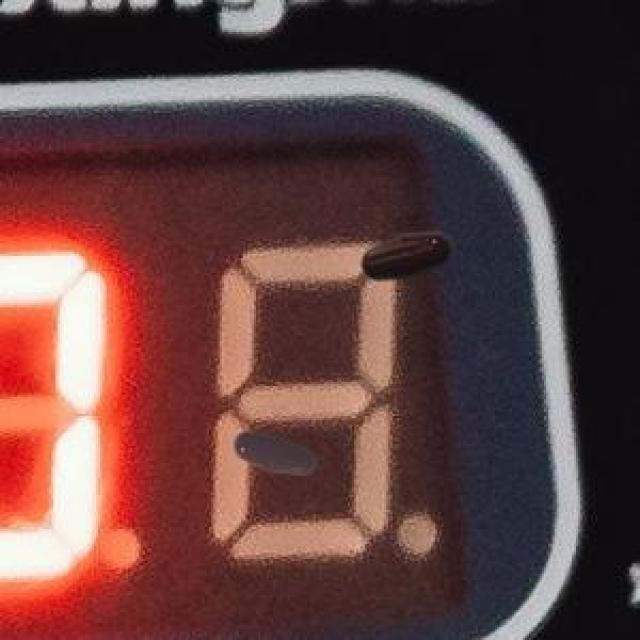DayZinc: (223, 409, 328, 506), (343, 210, 459, 294)
